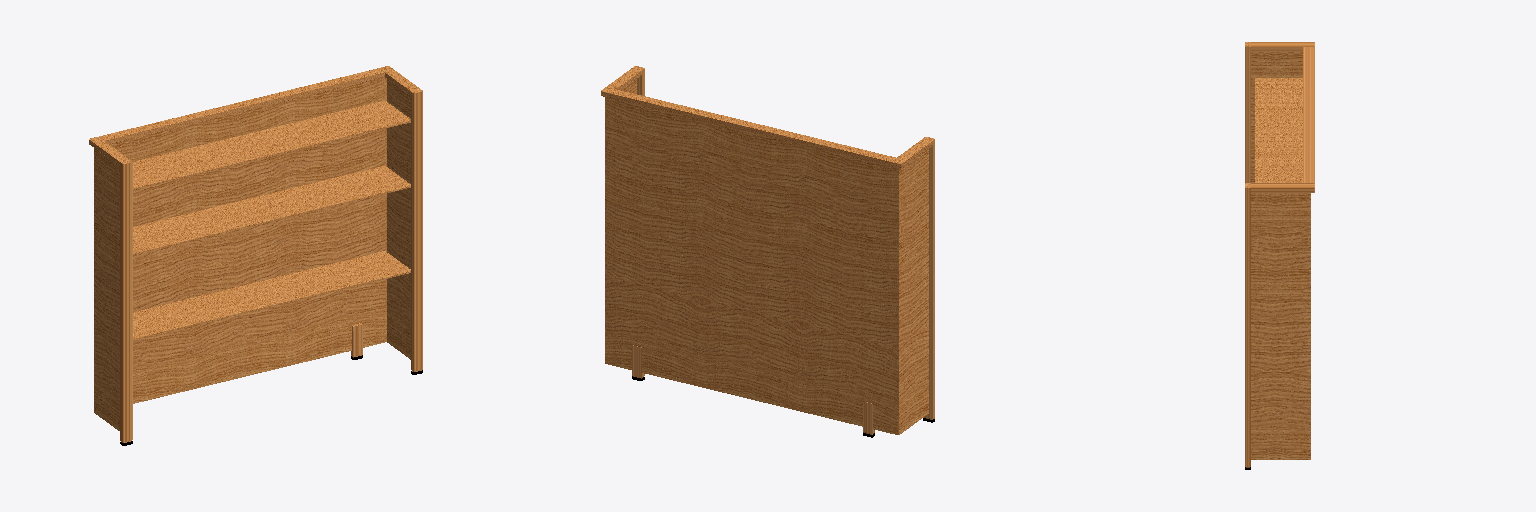
The picture shows the model from 3 angles: view 1: azimuth 30°, elevation 25°; view 2: azimuth 150°, elevation 25°; view 3: azimuth 270°, elevation 25°; orthographic projection.
Parts seen in each view (by area): view 1: Layer:HAD-, Object12, Object01; view 2: Layer:HAD-, Object01, Object13; view 3: Layer:HAD-, Object01, Object12.
Part boxes in pixels (x1,y1,x2,y2): Layer:HAD-: (94,77,410,430); Object12: (133,101,410,340); Object01: (89,66,422,442); Layer:HAD-: (605,79,928,434); Object01: (601,66,934,418); Object13: (632,345,934,434); Layer:HAD-: (1251,51,1310,459); Object01: (1245,42,1314,466); Object12: (1255,78,1302,182).
Size of the model in its own units: 88.6 by 79.5 by 17.71.
Materials: 4 (2 with a texture image).